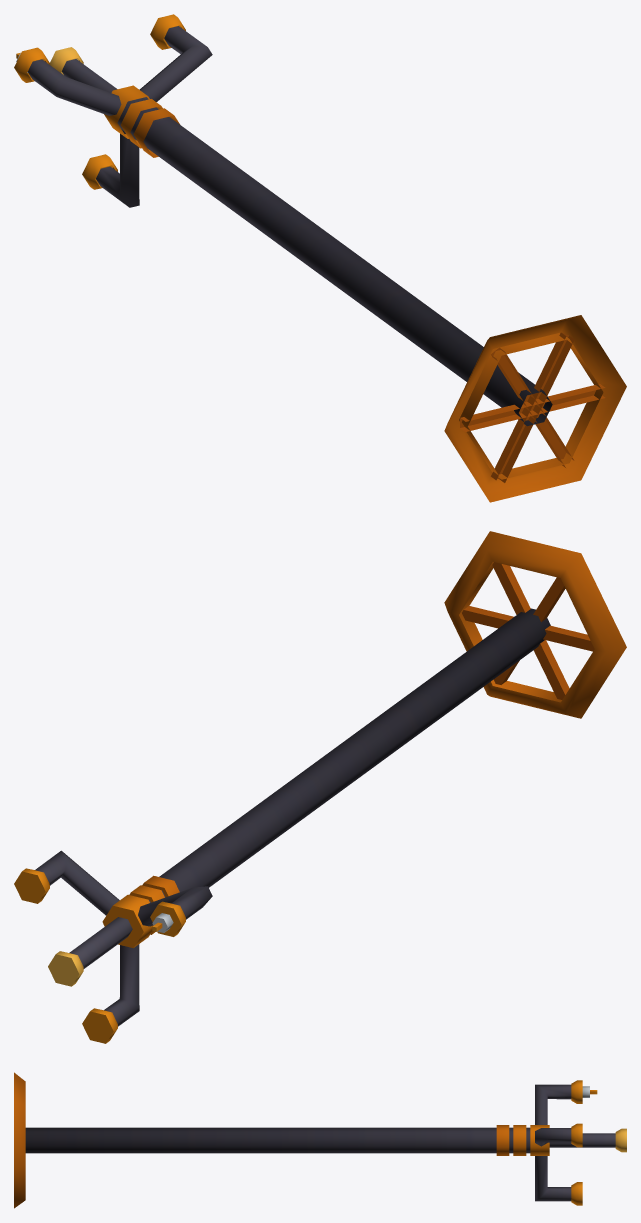
Rendered from Candle Stand 02.FBX.
3 views of the same model, one above another, from view 1: azimuth 30°, elevation 25°; view 2: azimuth 150°, elevation 25°; view 3: azimuth 270°, elevation 25° (orthographic). The views are drawn at different scales.
Parts seen in each view (by area): view 1: Candle Stand 02; view 2: Candle Stand 02; view 3: Candle Stand 02.
Part boxes in pixels (<box>): Candle Stand 02: <box>14,14,626,502</box>; Candle Stand 02: <box>14,531,626,1043</box>; Candle Stand 02: <box>14,1072,626,1208</box>.
Bounding box in the file's own units: 40.76 × 38.25 × 182.
